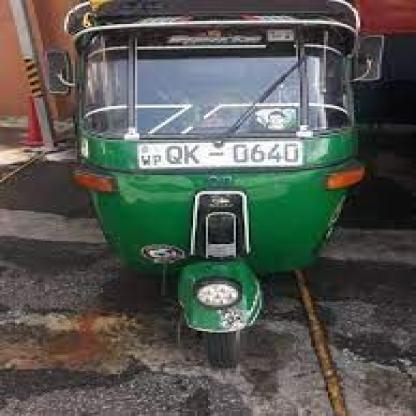number plate: (138, 142, 302, 168)
three wheeler front: (35, 0, 389, 374)
